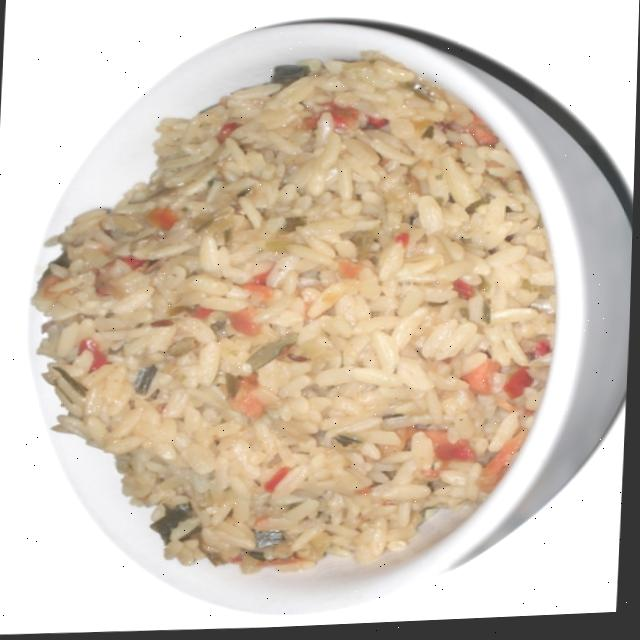米饭主食: (24, 34, 555, 591)
